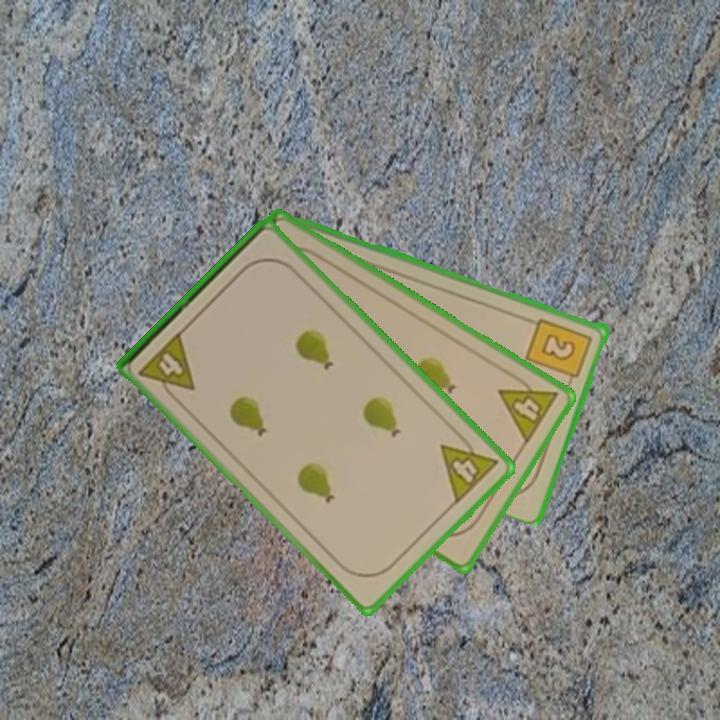2b: (523, 314, 596, 389)
4p: (494, 368, 562, 447), (437, 426, 501, 507), (135, 327, 199, 406)
